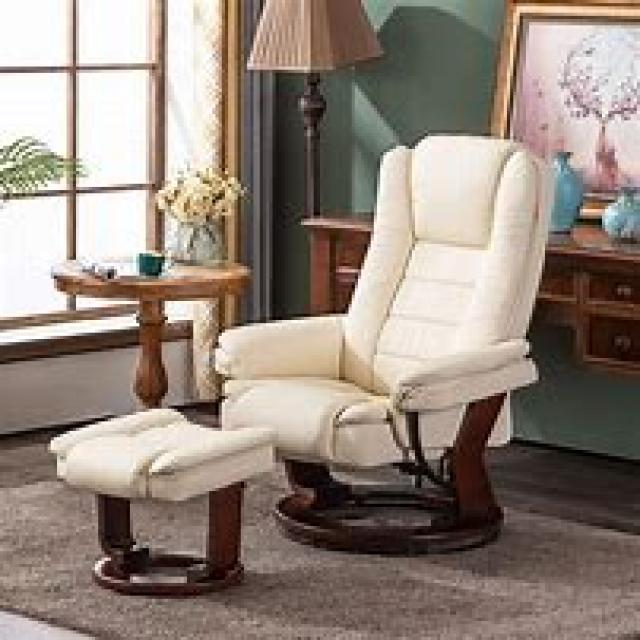chair: (212, 130, 554, 554)
